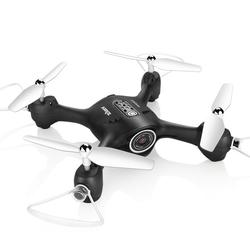drone: (1, 50, 250, 231)
